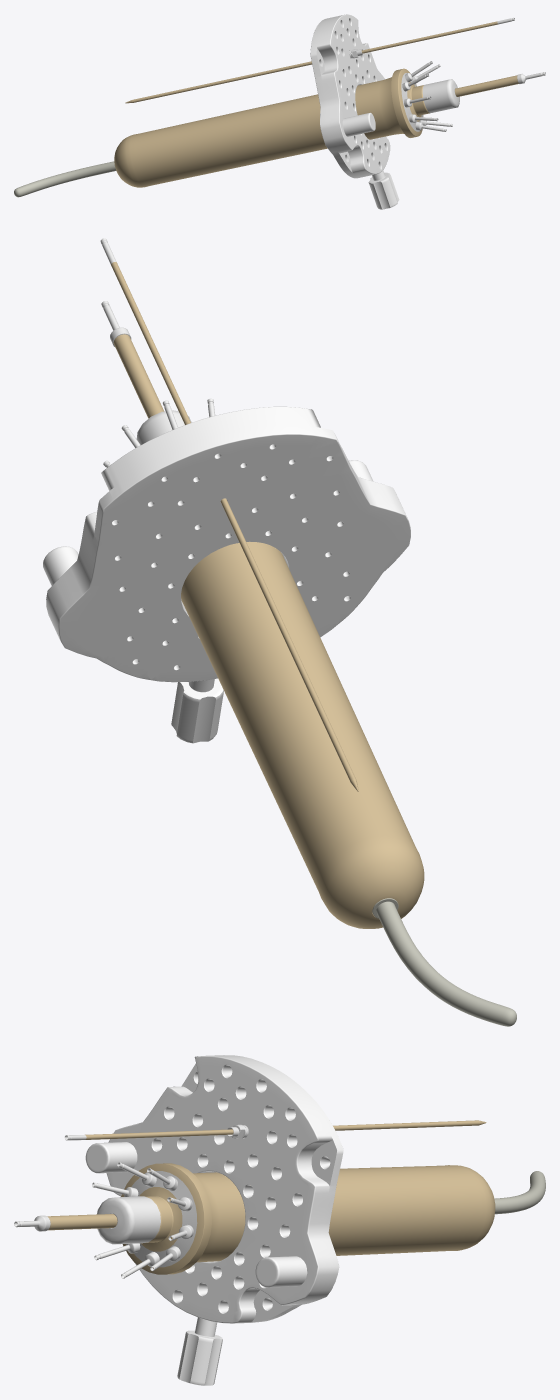
Rendered from Device_2_4.glb.
3 renders of one model, top to bottom at view 1: azimuth 30°, elevation 25°; view 2: azimuth 150°, elevation 25°; view 3: azimuth 270°, elevation 25°, orthographic. The views are drawn at different scales.
Parts seen in each view (by area): view 1: prop_03_final_2_Main_surface, Main_part_body, Buffer_Layer_2, prop_03_final_2_Rod, prop_03_final_2_Middle_surface, screw, Buffer_Layer_1, prop_03_final_2_Tex_Surface; view 2: Main_part_body, prop_03_final_2_Main_surface, prop_03_final_2_Rod, Buffer_Layer_2, screw, Buffer_Layer_1; view 3: Main_part_body, prop_03_final_2_Main_surface, prop_03_final_2_Middle_surface, screw, Buffer_Layer_2, prop_03_final_2_Tex_Surface, prop_03_final_2_Rod, Buffer_Layer_1.
Part boxes in pixels (x1=…): prop_03_final_2_Main_surface: x1=114, y1=68, x2=429, y2=187; Main_part_body: x1=310, y1=14, x2=390, y2=178; Buffer_Layer_2: x1=125, y1=21, x2=497, y2=103; prop_03_final_2_Rod: x1=14, y1=161, x2=116, y2=197; prop_03_final_2_Middle_surface: x1=422, y1=79, x2=459, y2=113; screw: x1=368, y1=170, x2=399, y2=209; Buffer_Layer_1: x1=454, y1=75, x2=518, y2=96; prop_03_final_2_Tex_Surface: x1=401, y1=73, x2=422, y2=131; Main_part_body: x1=43, y1=406, x2=410, y2=682; prop_03_final_2_Main_surface: x1=181, y1=541, x2=424, y2=928; prop_03_final_2_Rod: x1=372, y1=898, x2=516, y2=1026; Buffer_Layer_2: x1=111, y1=262, x2=358, y2=791; screw: x1=171, y1=678, x2=223, y2=743; Buffer_Layer_1: x1=113, y1=334, x2=163, y2=418; Main_part_body: x1=85, y1=1055, x2=343, y2=1323; prop_03_final_2_Main_surface: x1=121, y1=1163, x2=495, y2=1274; prop_03_final_2_Middle_surface: x1=97, y1=1196, x2=160, y2=1244; screw: x1=177, y1=1317, x2=222, y2=1385; Buffer_Layer_2: x1=85, y1=1120, x2=486, y2=1139; prop_03_final_2_Tex_Surface: x1=131, y1=1171, x2=197, y2=1267; prop_03_final_2_Rod: x1=494, y1=1171, x2=545, y2=1214; Buffer_Layer_1: x1=47, y1=1214, x2=117, y2=1230.
Bounding box in the file's own units: 0.0649 × 0.0338 × 0.0505.
